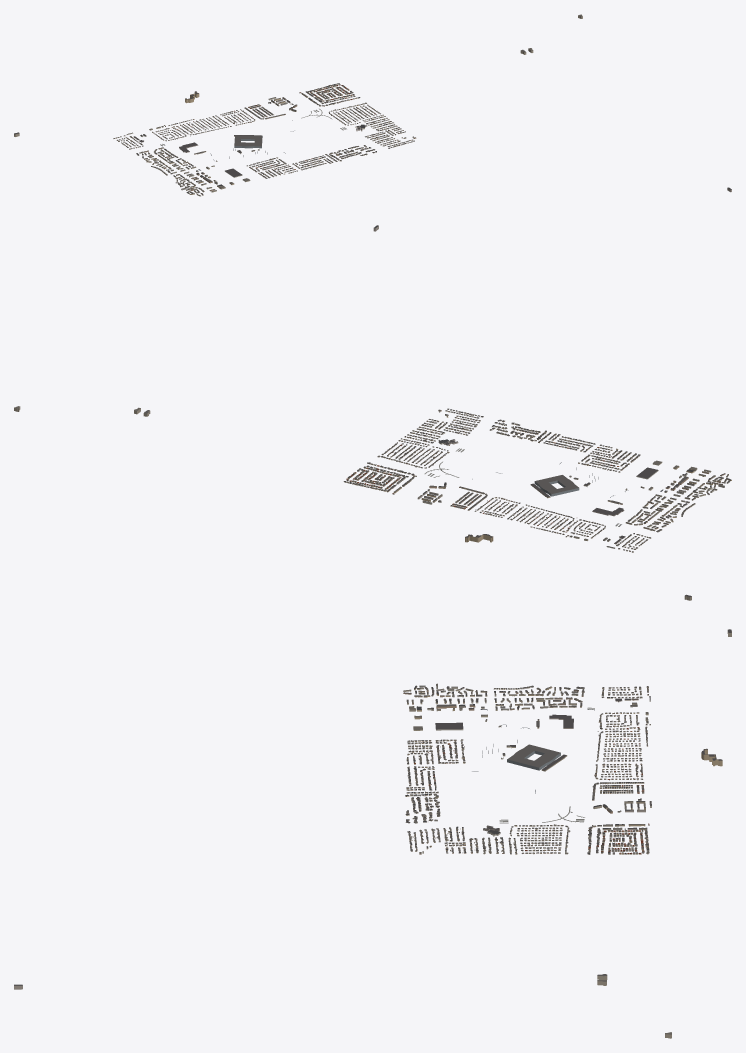
Rendered from scenery.glb.
3 renders of one model, top to bottom at view 1: azimuth 30°, elevation 25°; view 2: azimuth 150°, elevation 25°; view 3: azimuth 270°, elevation 25°, orthographic. The views are drawn at different scales.
Visible parts, largest first — view 1: chunk_12_15, chunk_14_15, chunk_12_16, chunk_17_14; view 2: chunk_14_15; view 3: chunk_14_15, chunk_12_15, chunk_12_16.
Boxes of the visible parts, left/top/right/bottom form: chunk_12_15: left=145, top=153, right=193, bottom=173; chunk_14_15: left=233, top=135, right=262, bottom=153; chunk_12_16: left=165, top=166, right=216, bottom=188; chunk_17_14: left=301, top=94, right=350, bottom=119; chunk_14_15: left=530, top=475, right=592, bottom=498; chunk_14_15: left=501, top=740, right=567, bottom=771; chunk_12_15: left=495, top=685, right=562, bottom=710; chunk_12_16: left=436, top=686, right=498, bottom=711.
Bounding box in the file's own units: 6307 × 41.39 × 4718.
